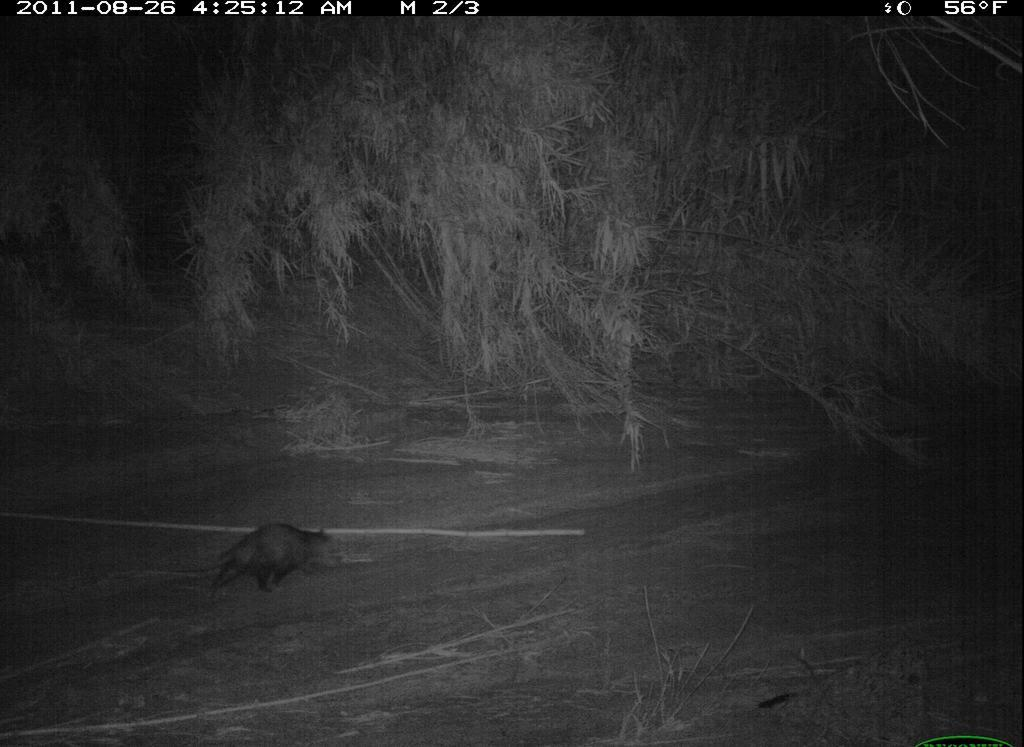opossum: (172, 516, 345, 606)
